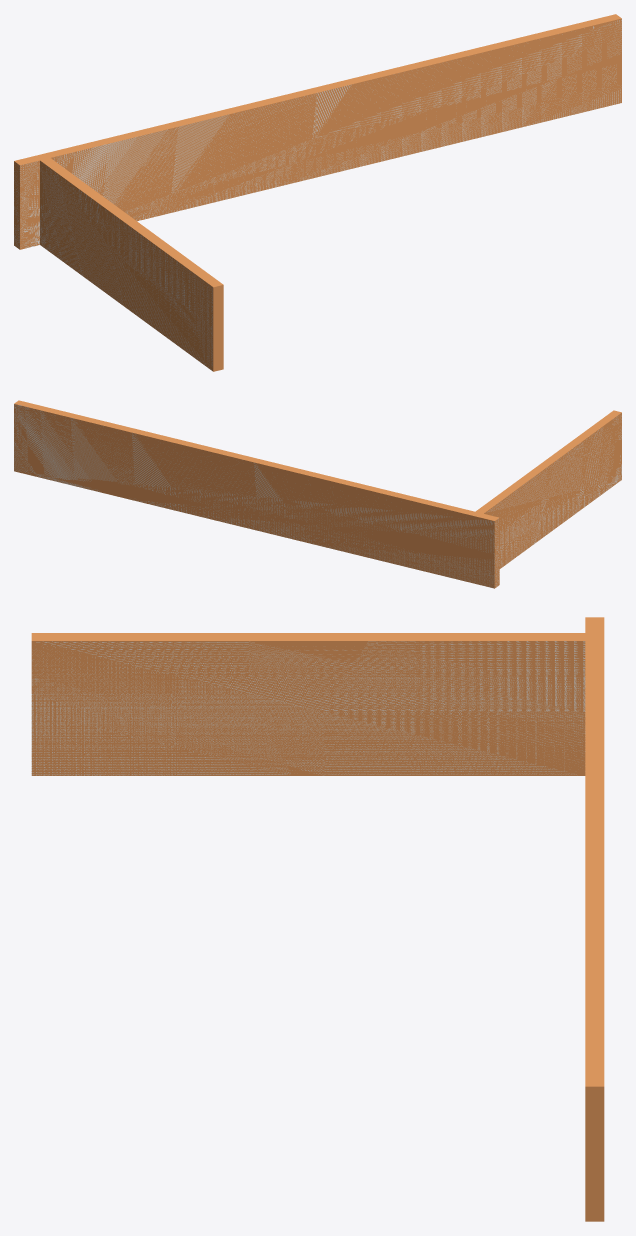
File: original-38.obj
3 renders of one model, top to bottom at view 1: azimuth 30°, elevation 25°; view 2: azimuth 150°, elevation 25°; view 3: azimuth 270°, elevation 25°, orthographic. The views are drawn at different scales.
Parts seen in each view (by area): view 1: mesh56/mesh56-geometry#mesh56-geometry; view 2: mesh56/mesh56-geometry#mesh56-geometry; view 3: mesh56/mesh56-geometry#mesh56-geometry.
Boxes of the visible parts, x1,y1,x2,y2 form: mesh56/mesh56-geometry#mesh56-geometry: (14,14,621,371); mesh56/mesh56-geometry#mesh56-geometry: (14,400,621,588); mesh56/mesh56-geometry#mesh56-geometry: (31,617,604,1221).
Size of the model in its own units: 0.7262 by 0.0974 by 0.3747.
